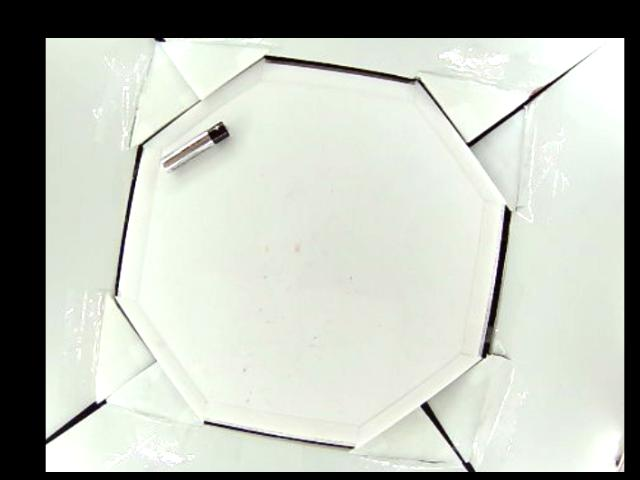Battery: (158, 122, 231, 170)
